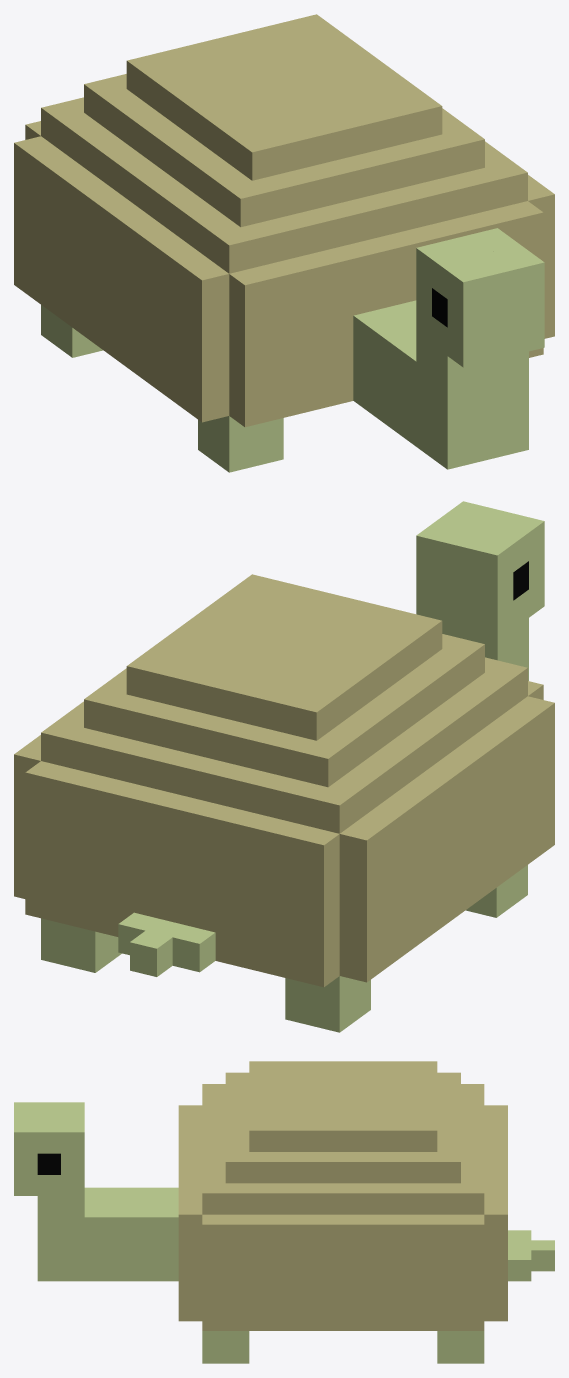
File: tortuga.fbx
3 views of the same model, one above another, from view 1: azimuth 30°, elevation 25°; view 2: azimuth 150°, elevation 25°; view 3: azimuth 270°, elevation 25° (orthographic). The views are drawn at different scales.
Parts seen in each view (by area): view 1: tortuga_13x10x23; view 2: tortuga_13x10x23; view 3: tortuga_13x10x23.
Part boxes in pixels (left/top/right/bottom): tortuga_13x10x23: left=14, top=14, right=554, bottom=472; tortuga_13x10x23: left=14, top=501, right=554, bottom=1032; tortuga_13x10x23: left=14, top=1061, right=554, bottom=1363.
Bounding box in the file's own units: 591 × 455 × 1045.
